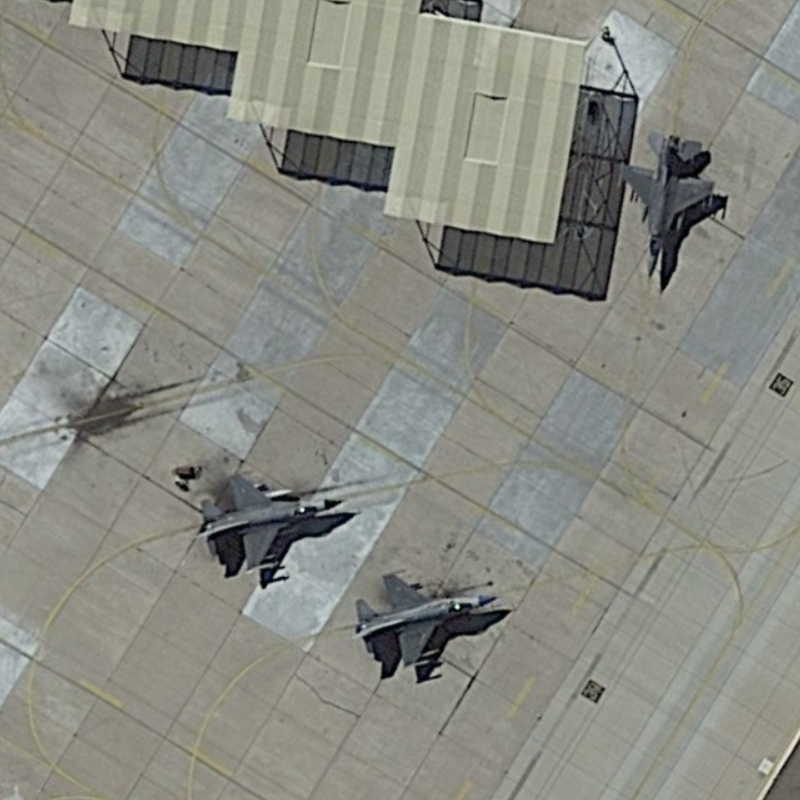A5: (187, 463, 350, 579), (609, 123, 723, 283), (348, 567, 502, 680)
